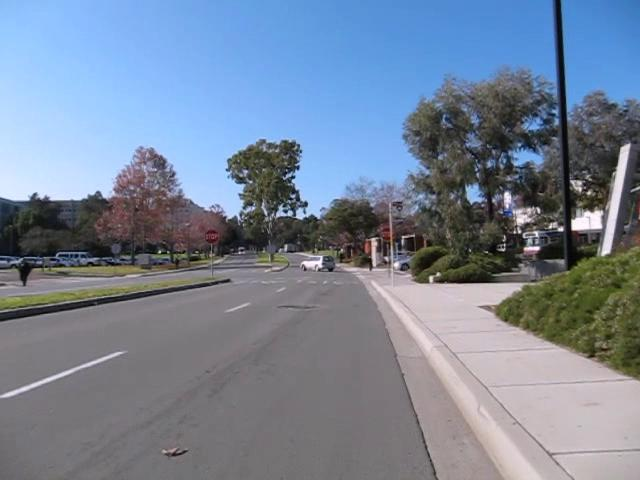stop: (203, 228, 219, 244)
